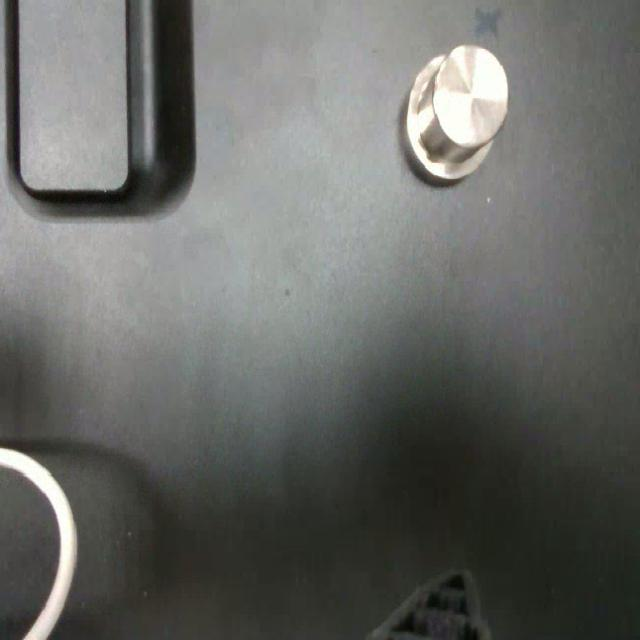sensor: (404, 43, 510, 182)
